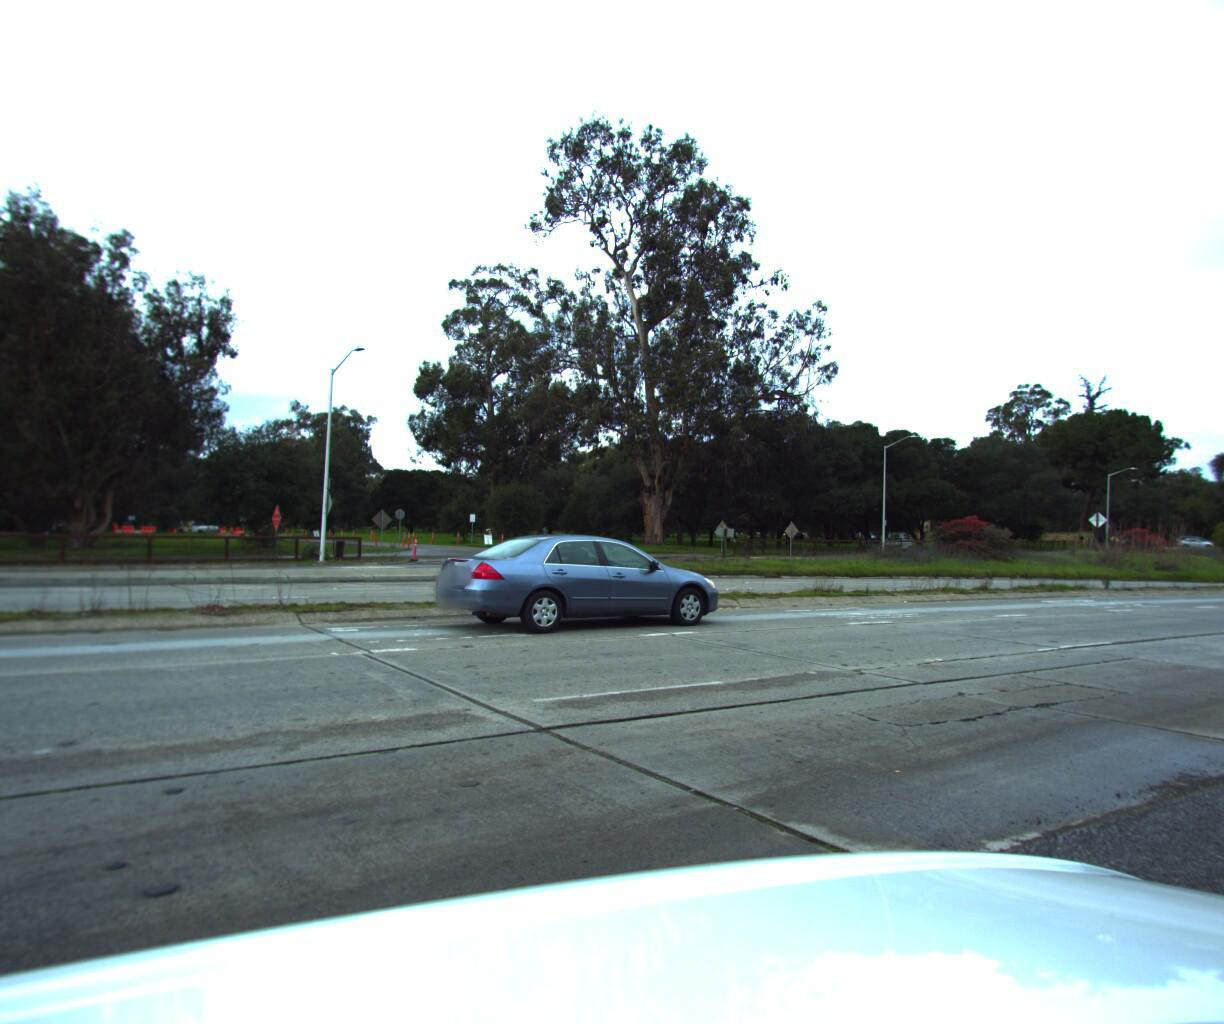car: (419, 522, 724, 637), (868, 524, 912, 546)
